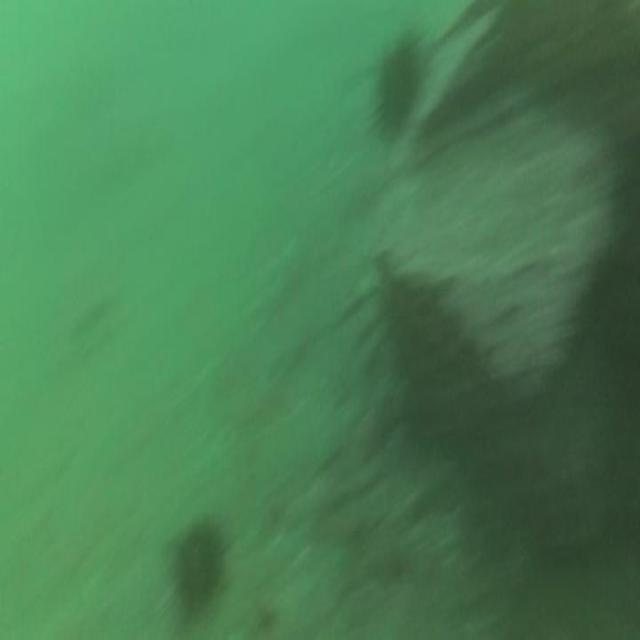echinus: (166, 510, 228, 626), (369, 35, 425, 142)
